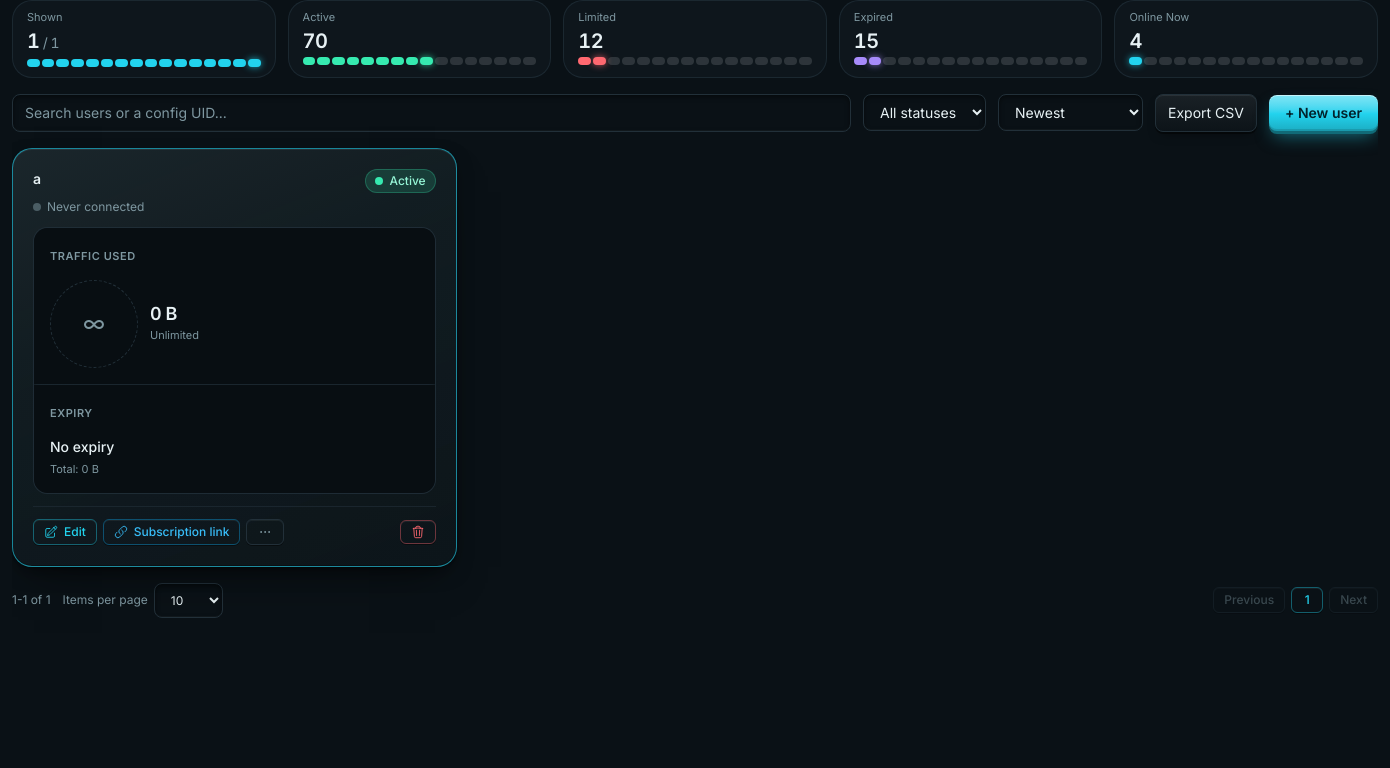
it: Users list layout › opens the reset dialog from the menu and closes the menu
The image size is (1390, 768).
Click the button named "More actions" at (266,532), box [246,518,284,544]
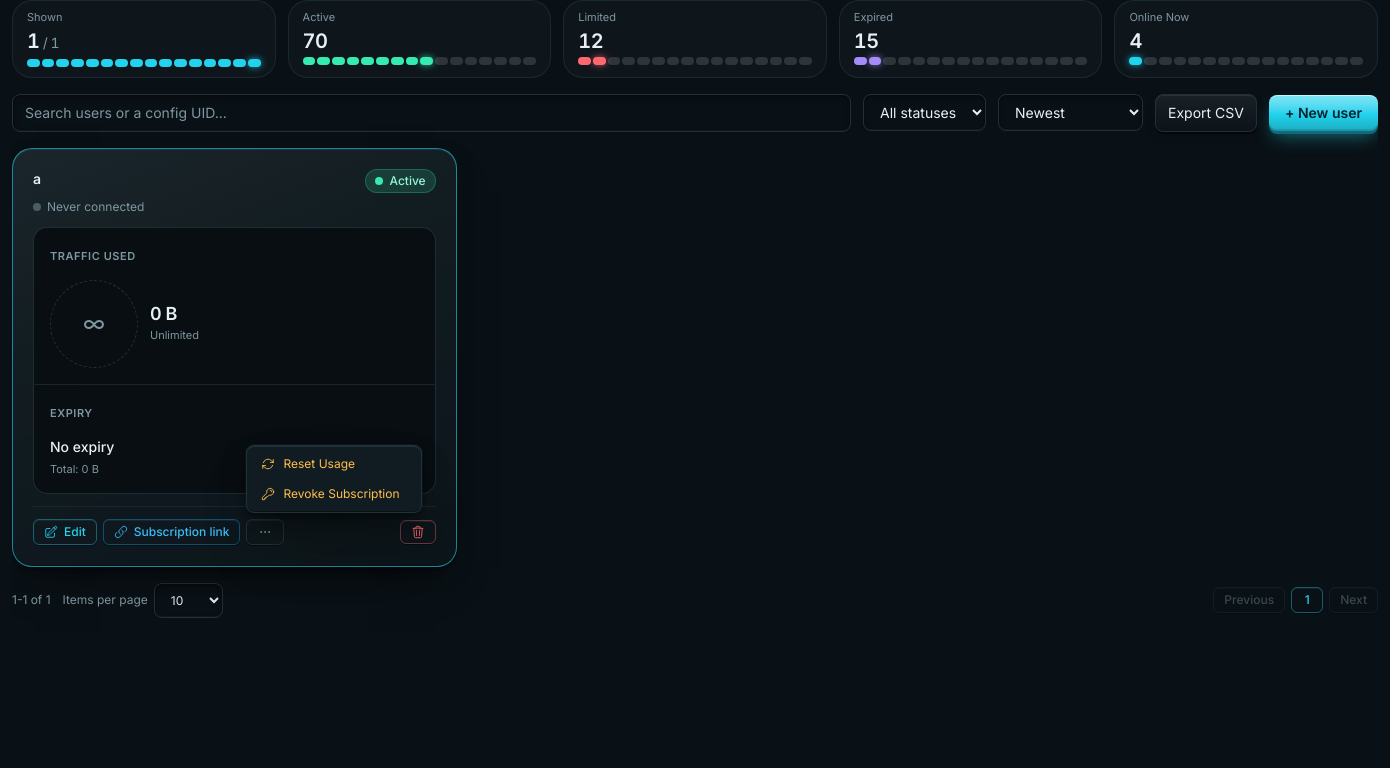
Click the menu item "Reset Usage" at (334,464), box [252,450,418,478]
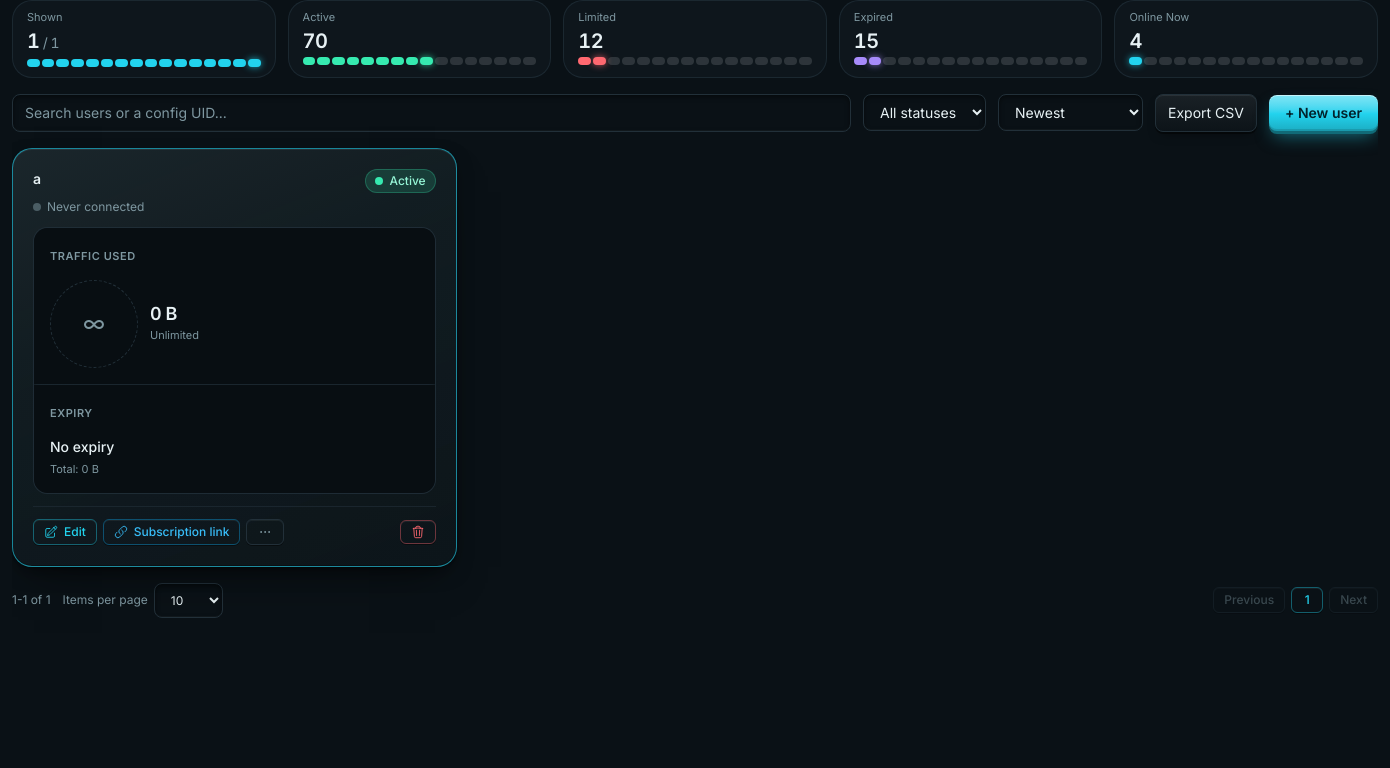
Result: the menu is gone
